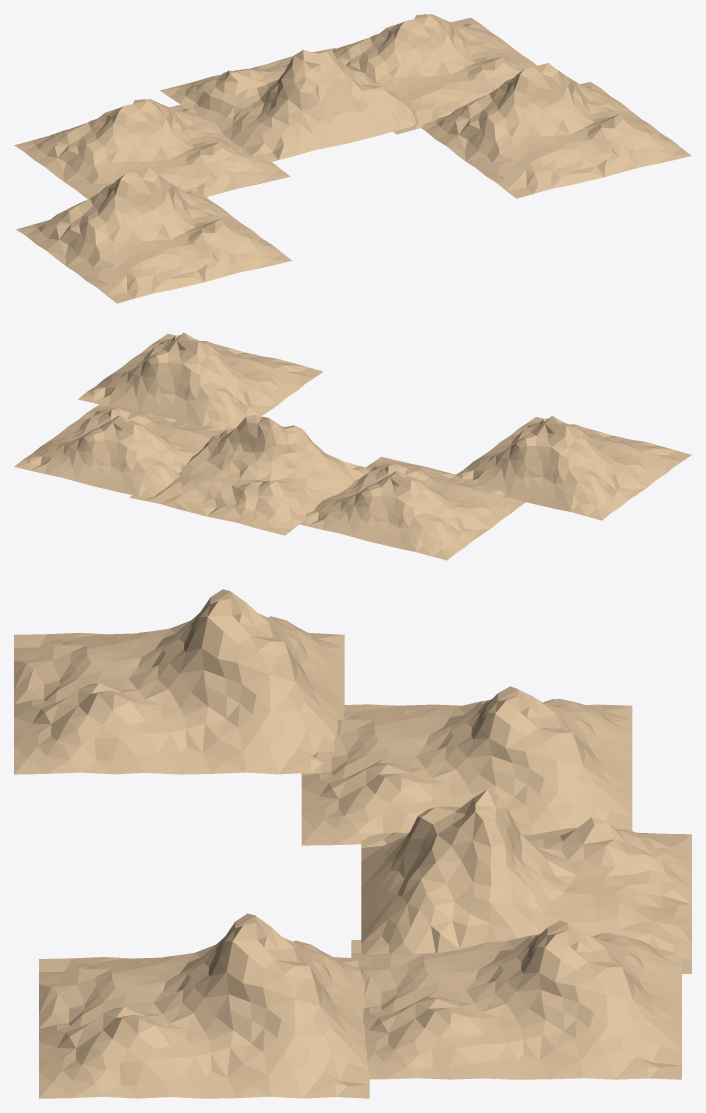
Rendered from mountains.glb.
The picture shows the model from 3 angles, top to bottom: view 1: azimuth 30°, elevation 25°; view 2: azimuth 150°, elevation 25°; view 3: azimuth 270°, elevation 25°; orthographic projection. The views are drawn at different scales.
Parts seen in each view (by area): view 1: terrain-mountains.005, terrain-mountains, terrain-mountains.001, terrain-mountains.002, terrain-mountains.004; view 2: terrain-mountains.001, terrain-mountains.005, terrain-mountains, terrain-mountains.002, terrain-mountains.004; view 3: terrain-mountains, terrain-mountains.005, terrain-mountains.004, terrain-mountains.001, terrain-mountains.002.
Boxes of the visible parts, x1,y1,x2,y2 form: terrain-mountains.005: (16, 168, 292, 303); terrain-mountains: (421, 63, 691, 198); terrain-mountains.001: (160, 48, 415, 162); terrain-mountains.002: (14, 99, 290, 198); terrain-mountains.004: (332, 14, 537, 134); terrain-mountains.001: (129, 414, 368, 535); terrain-mountains.005: (452, 415, 691, 520); terrain-mountains: (78, 332, 322, 430); terrain-mountains.002: (299, 456, 525, 560); terrain-mountains.004: (14, 404, 224, 498); terrain-mountains: (39, 913, 369, 1098); terrain-mountains.005: (14, 589, 344, 774); terrain-mountains.004: (351, 920, 681, 1079); terrain-mountains.001: (361, 789, 691, 973); terrain-mountains.002: (301, 686, 632, 845).
Bounding box in the file's own units: 1001 × 112 × 618.
